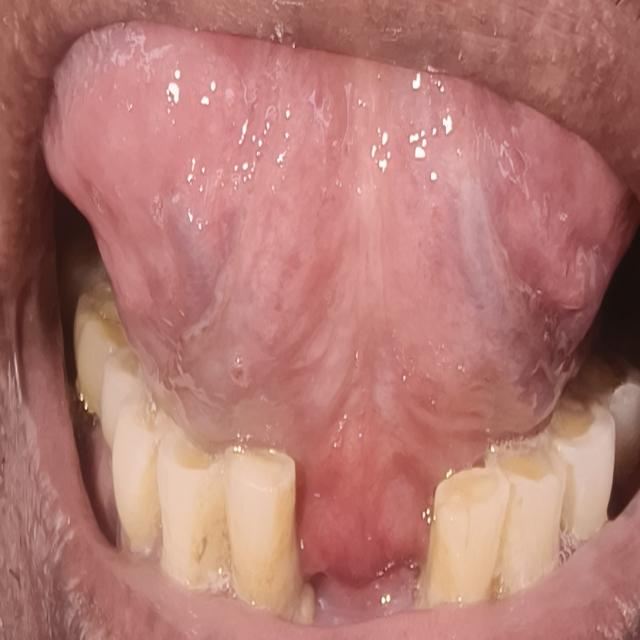processing_area: (42, 26, 620, 570)
